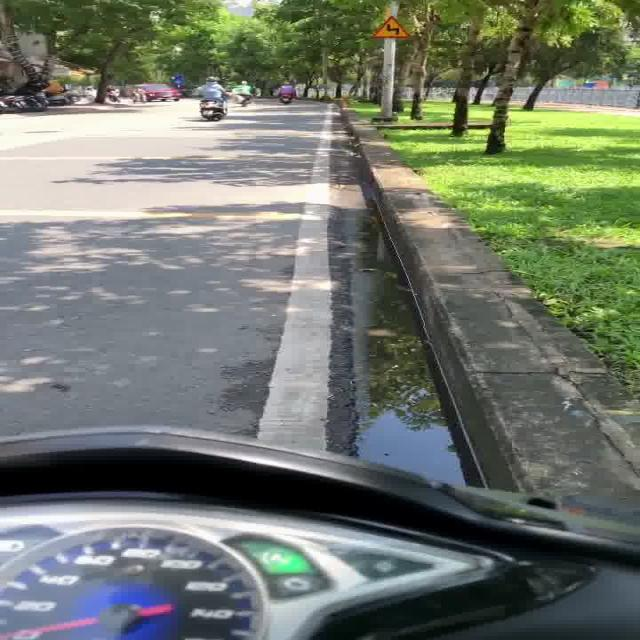Bien bao nhieu cho ngoat nguy hiem lien tiep: (366, 14, 417, 40)
